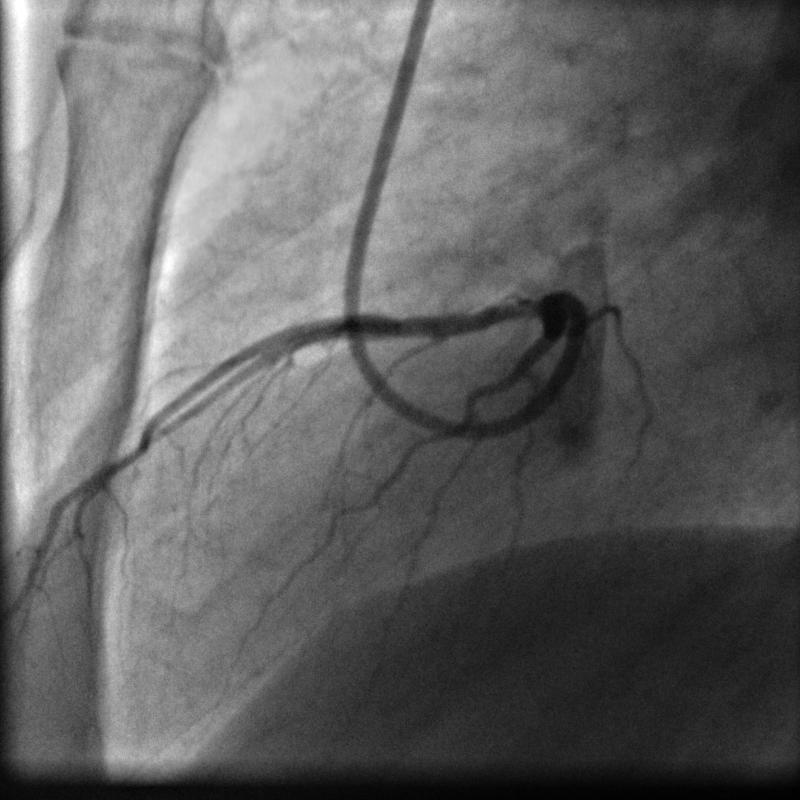Stenosis: (374, 312, 412, 341)
